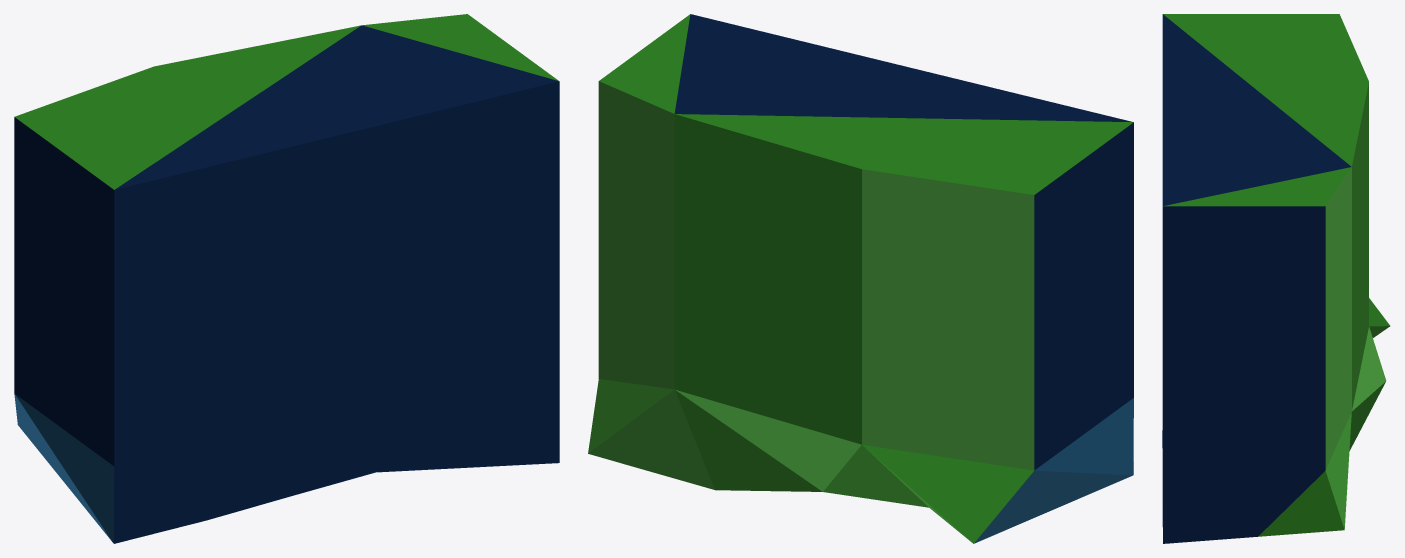
The model's file is guard_middle_f_2.fbx.
The picture shows the model from 3 angles, left to right: view 1: azimuth 30°, elevation 25°; view 2: azimuth 150°, elevation 25°; view 3: azimuth 270°, elevation 25°; orthographic projection. The views are drawn at different scales.
Parts seen in each view (by area): view 1: Cube.004; view 2: Cube.004; view 3: Cube.004.
Boxes of the visible parts, x1,y1,x2,y2 form: Cube.004: (14,14,559,543); Cube.004: (588,14,1133,543); Cube.004: (1162,14,1390,543).
Bounding box in the file's own units: 1036 × 849 × 520.
